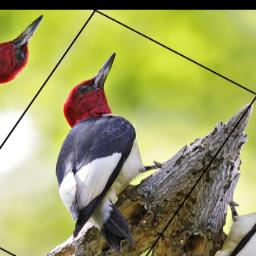Woodpecker: (0, 48, 226, 256)
